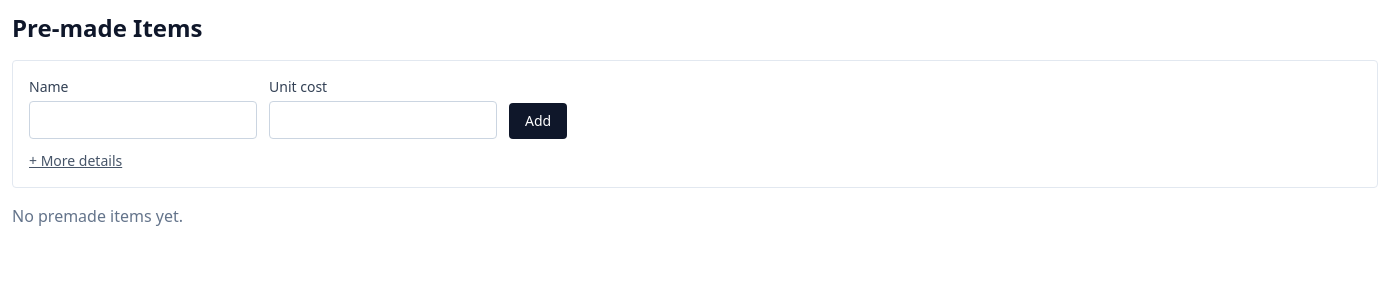
Test: PremadeItemsListPage — inline add form › creates a premade item via the essentials-only form and shows the new row without a manual refetch
Expected: the text "No premade items yet." is shown, left=12, top=205, right=183, bottom=227
Type "Keychain blank" into the field labelled "Name" at {"x": 143, "y": 120}, box left=29, top=101, right=257, bottom=139
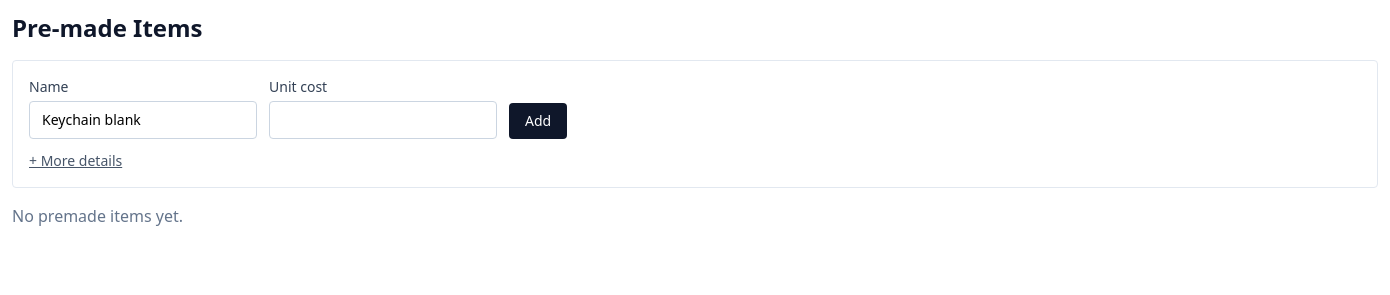
Type "25" into the number field labelled "Unit cost" at {"x": 383, "y": 120}, box left=269, top=101, right=497, bottom=139
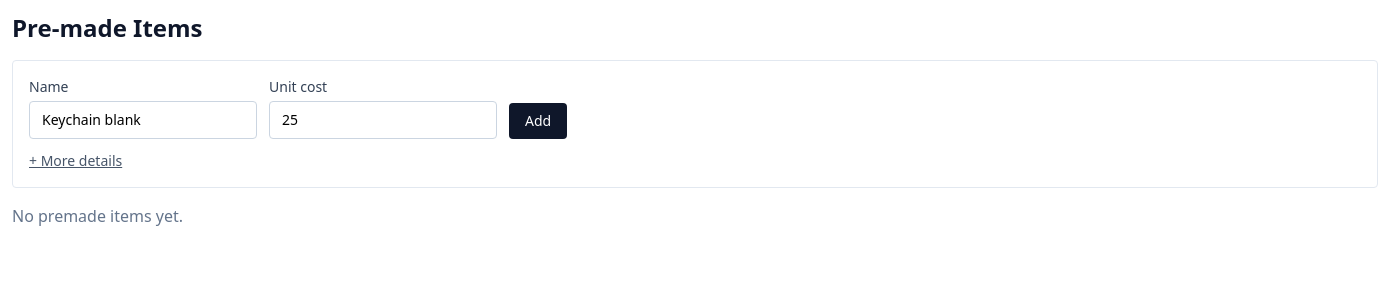
Click the button "Add" at {"x": 538, "y": 121}, box left=509, top=103, right=567, bottom=139
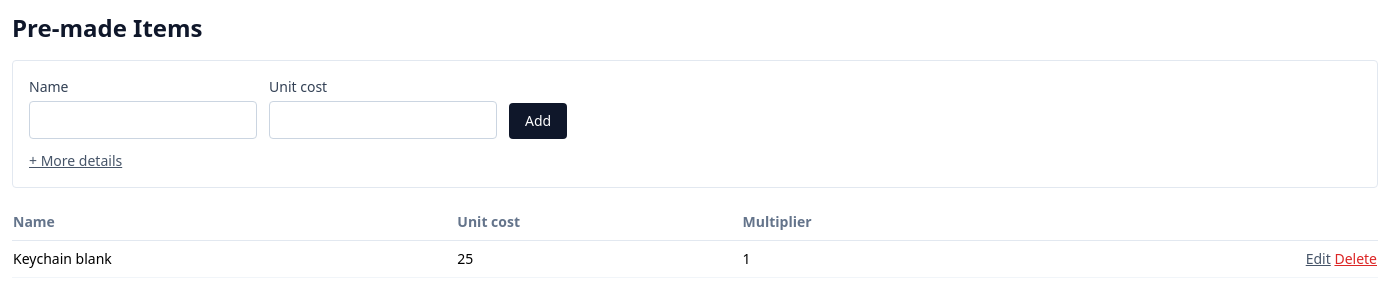
Expected: the text "Keychain blank" is shown, left=12, top=240, right=456, bottom=278
